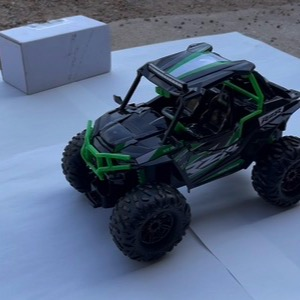polaris: (61, 42, 299, 264)
